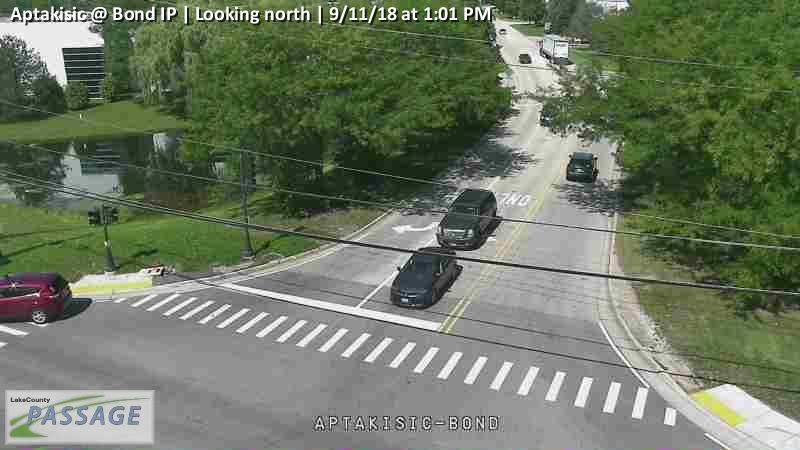SUV: (435, 189, 498, 249), (537, 35, 569, 64)
Sedan: (390, 247, 457, 307), (1, 272, 75, 324), (566, 151, 599, 183), (519, 53, 533, 64)
